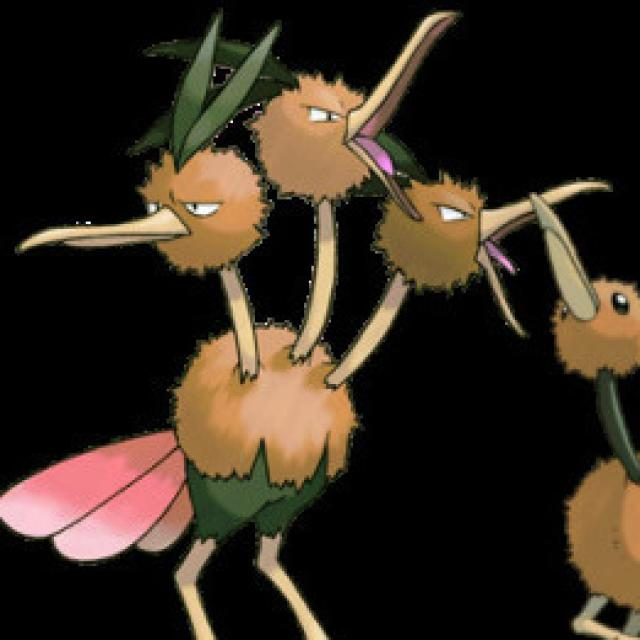Dodrio: (89, 69, 504, 636)
